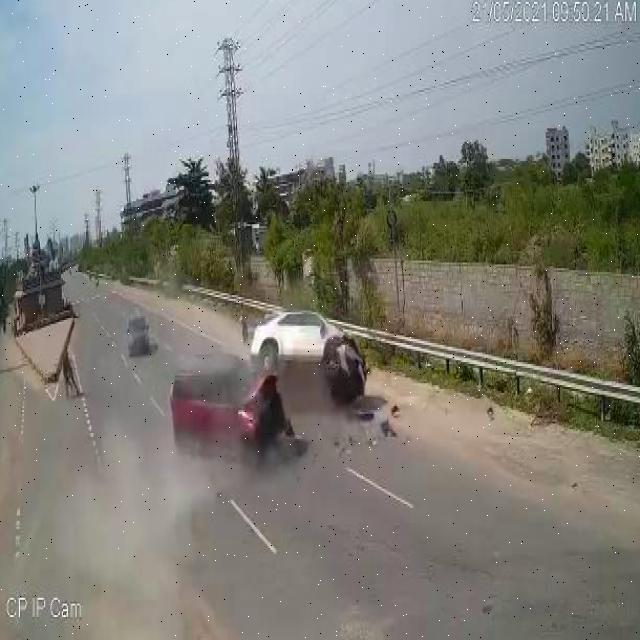accident: (165, 282, 405, 483)
